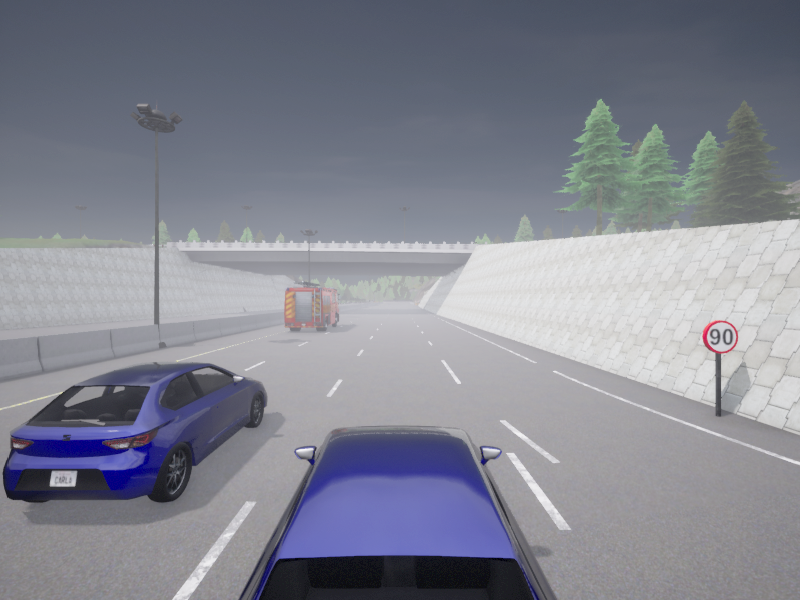vehicle: (237, 426, 556, 599), (4, 362, 267, 502), (284, 281, 340, 330)
